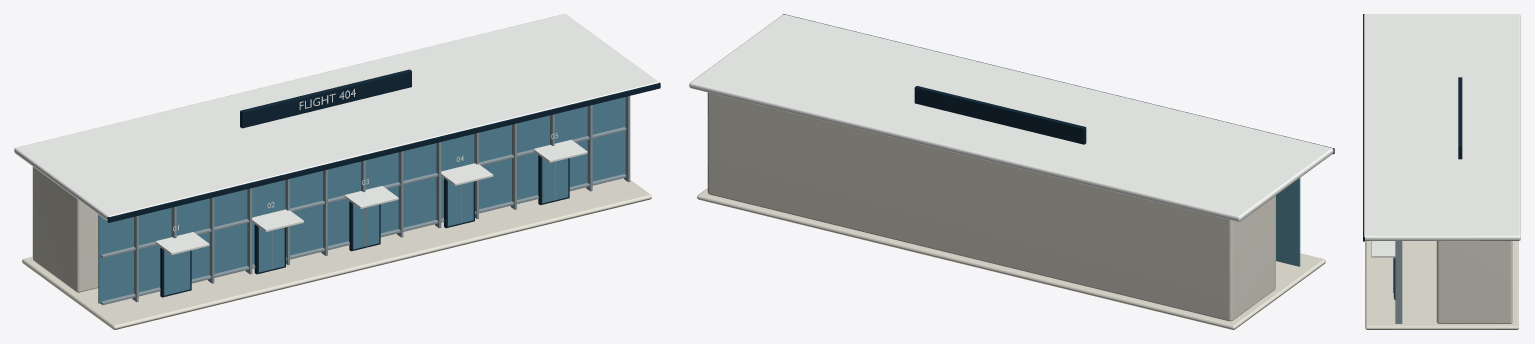
The model's file is airport-terminal.glb.
3 views of the same model, side by side, from view 1: azimuth 30°, elevation 25°; view 2: azimuth 150°, elevation 25°; view 3: azimuth 270°, elevation 25° (orthographic). The views are drawn at different scales.
Visible parts, largest first — view 1: airport-terminal; view 2: airport-terminal; view 3: airport-terminal.
Part boxes in pixels (x1,y1,x2,y2): airport-terminal: (14,14,660,329); airport-terminal: (689,14,1334,329); airport-terminal: (1363,14,1520,329).
Size of the model in its own units: 29.2 by 6.72 by 8.72.
